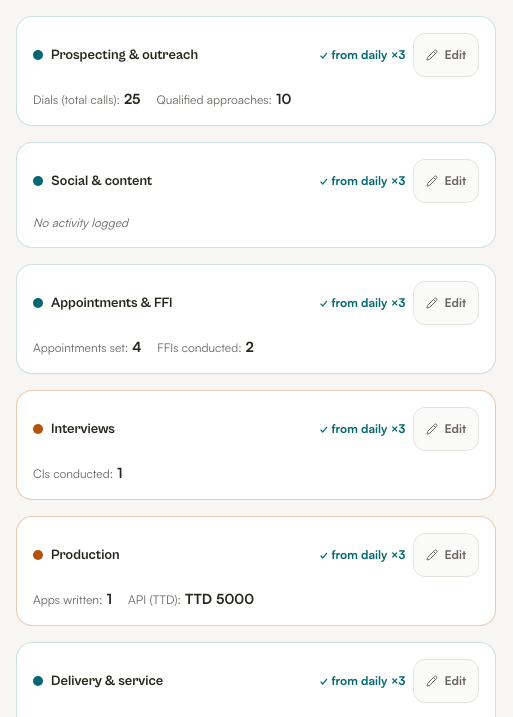
Test case: D — onEditField: stepper interactions › TTD field renders MoneyInput with TTD prefix (no stepper buttons)
Click the button with test id "wcv-section-production-edit" at [446, 555], box [413, 533, 479, 577]
(page scrolled)
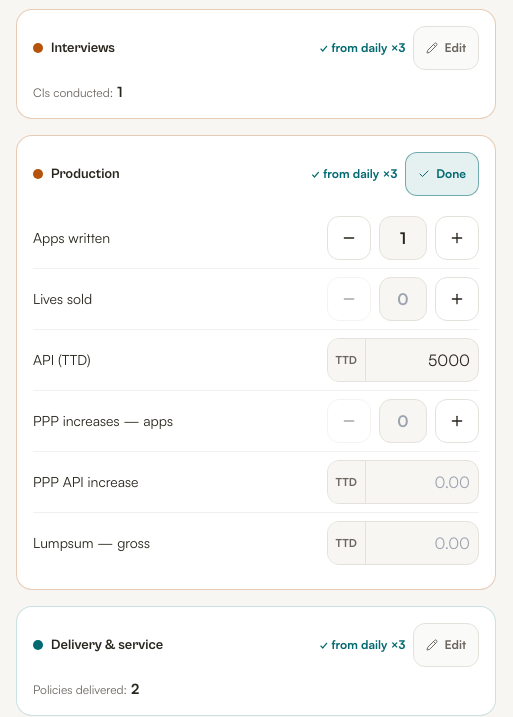
Expected: the text "TTD" in the row of "API (TTD)" is shown, [336, 353, 357, 367]
